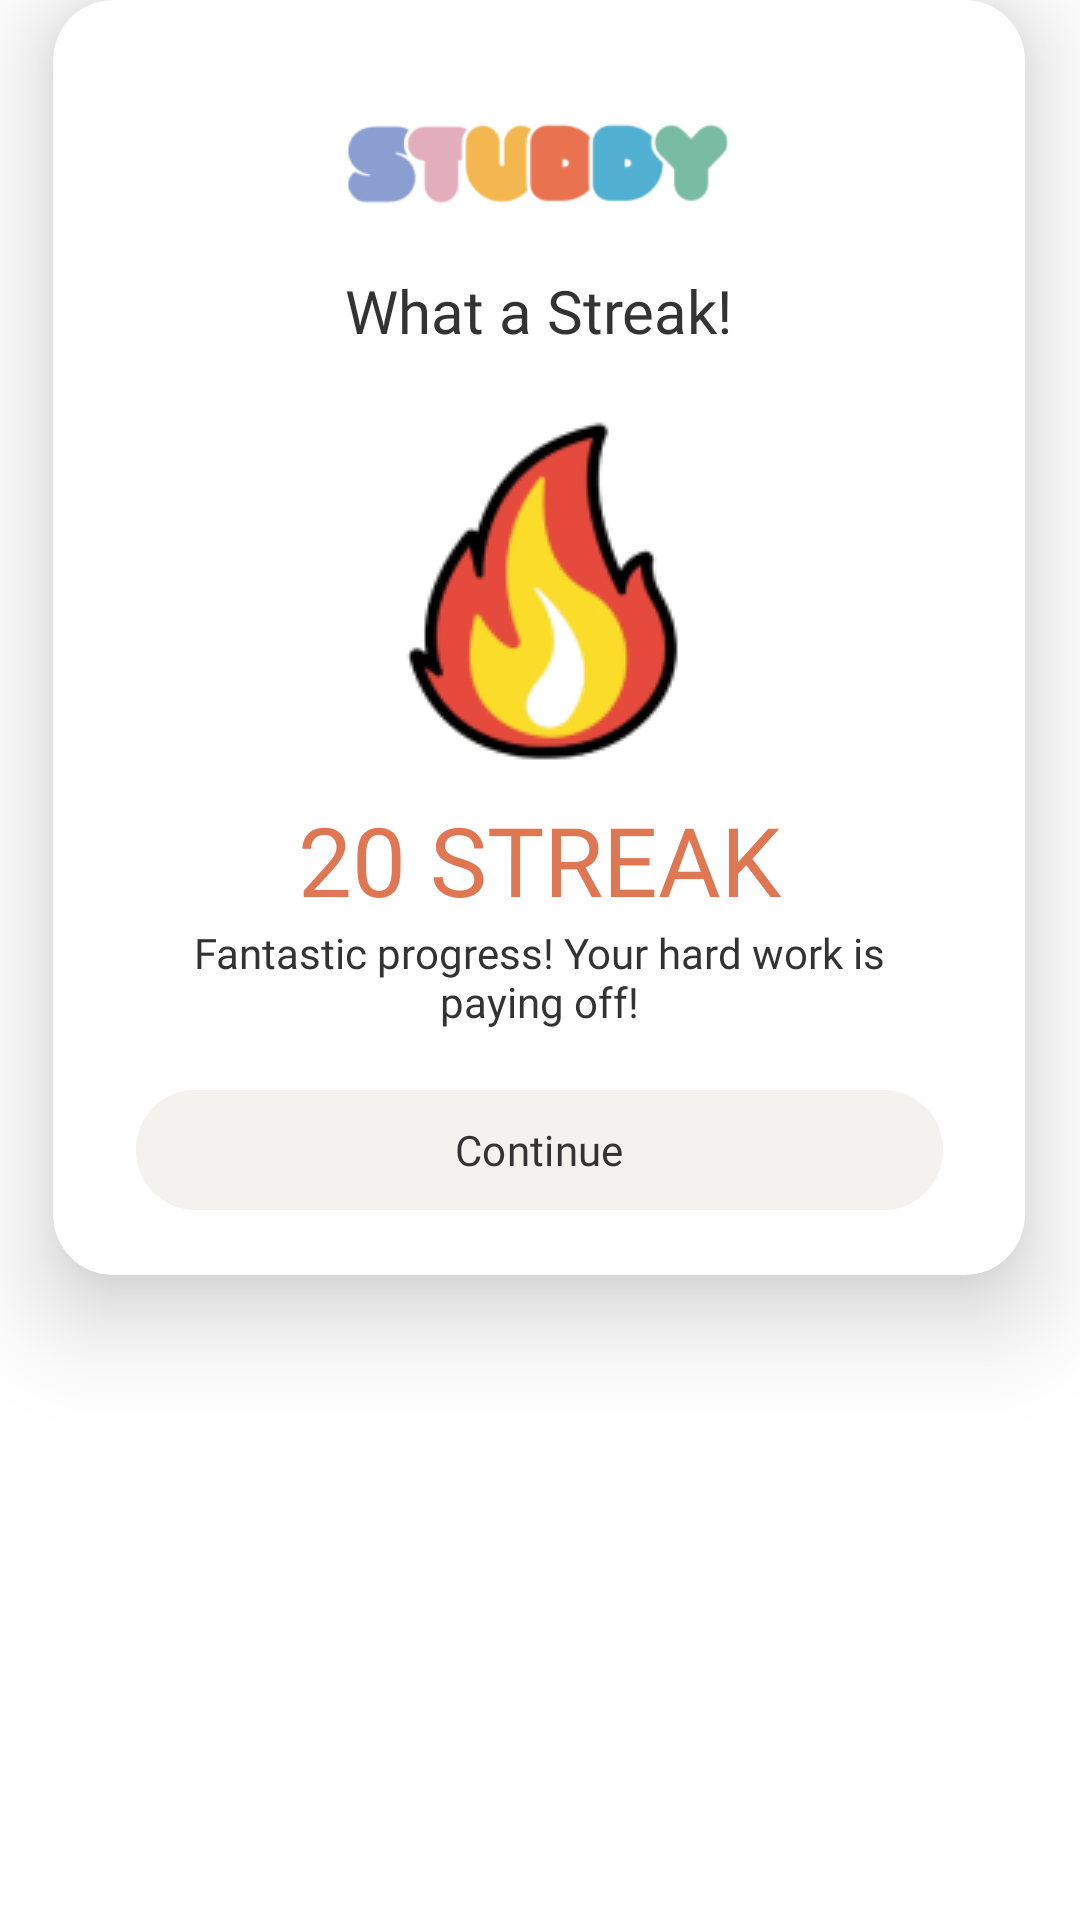

Locate icon controls on the screen. Image size 1080x1920, boxes as (x1, y1, x2, y2).
streakfire: (408, 422, 678, 760)
